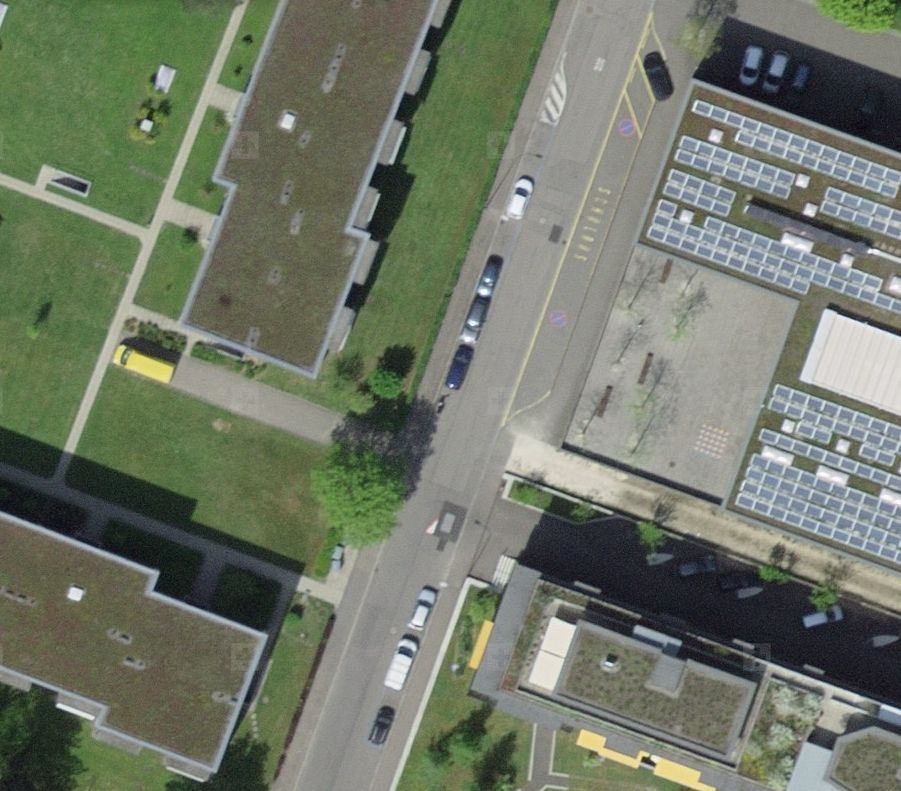solar: (642, 99, 901, 313), (733, 384, 901, 562)
